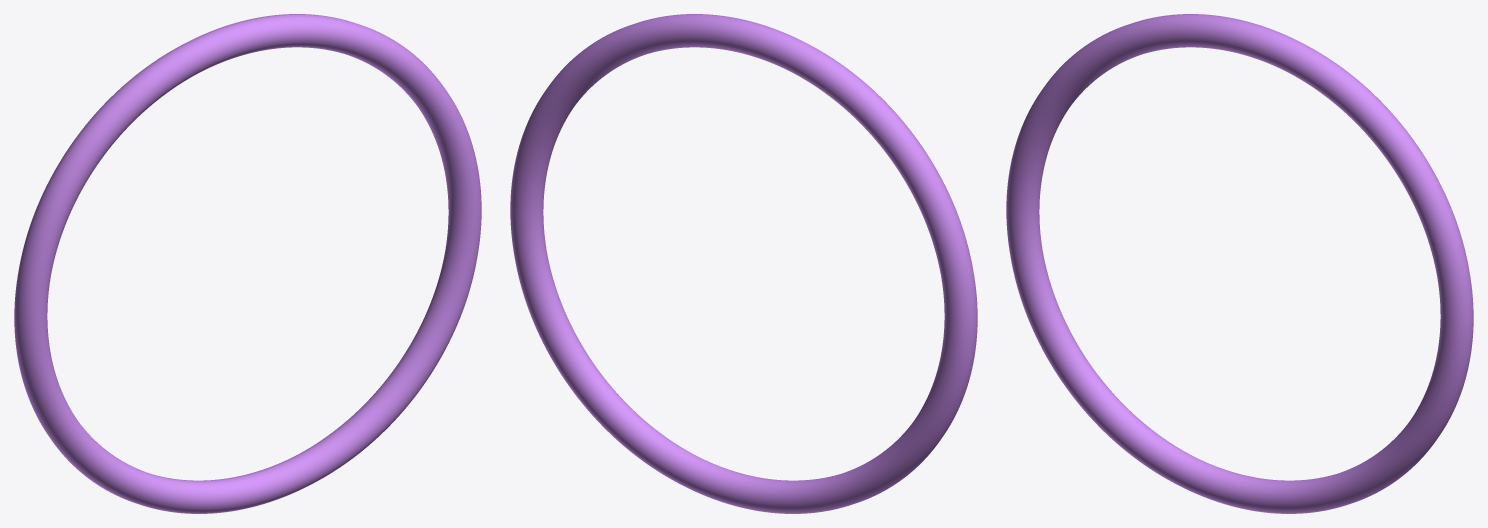
Rendered from halo-DHxafTHl.glb.
3 renders of one model, left to right at view 1: azimuth 30°, elevation 25°; view 2: azimuth 150°, elevation 25°; view 3: azimuth 330°, elevation 25°, orthographic.
Parts seen in each view (by area): view 1: R3D_halo_Body_0; view 2: R3D_halo_Body_0; view 3: R3D_halo_Body_0.
Boxes of the visible parts, left/top/right/bottom form: R3D_halo_Body_0: left=14, top=14, right=481, bottom=513; R3D_halo_Body_0: left=510, top=14, right=977, bottom=513; R3D_halo_Body_0: left=1006, top=14, right=1473, bottom=513.
Size of the model in its own units: 3.84 by 3.84 by 0.24.
